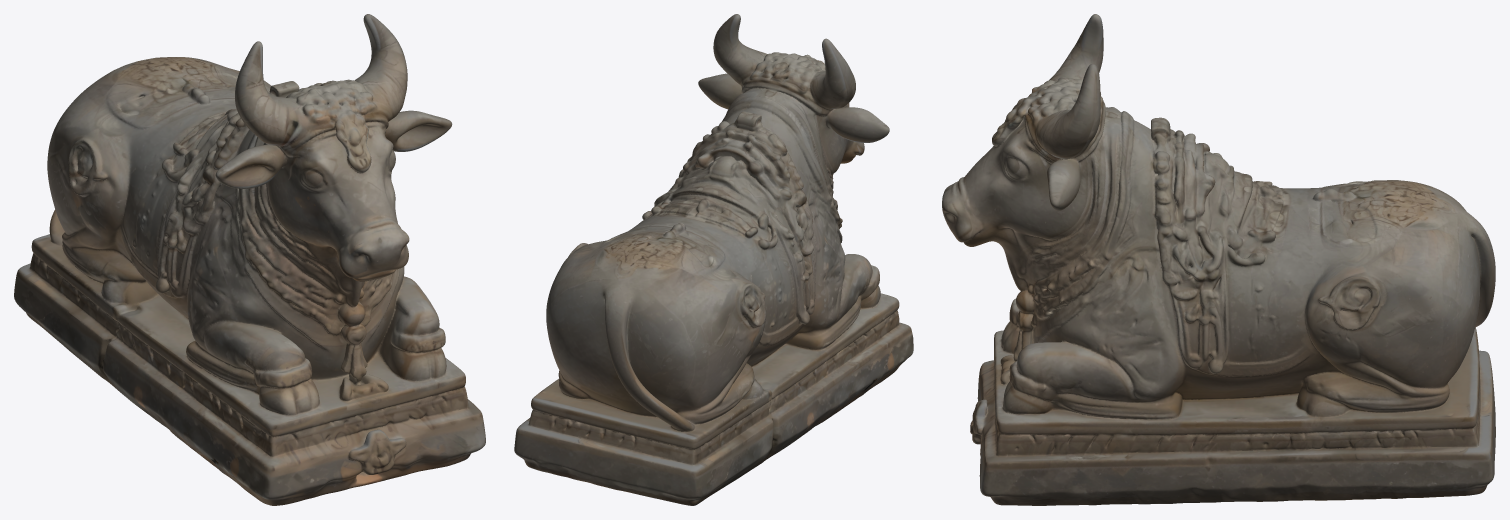
Rendered from Lingraja Bull.glb.
3 renders of one model, left to right at view 1: azimuth 30°, elevation 25°; view 2: azimuth 150°, elevation 25°; view 3: azimuth 270°, elevation 25°, orthographic. The views are drawn at different scales.
Parts seen in each view (by area): view 1: tripo_node_8fa0d984-569e-4645-96cf-ba34e897a25a; view 2: tripo_node_8fa0d984-569e-4645-96cf-ba34e897a25a; view 3: tripo_node_8fa0d984-569e-4645-96cf-ba34e897a25a.
Part boxes in pixels (x1,y1,x2,y2): tripo_node_8fa0d984-569e-4645-96cf-ba34e897a25a: (14,14,485,505); tripo_node_8fa0d984-569e-4645-96cf-ba34e897a25a: (514,14,913,505); tripo_node_8fa0d984-569e-4645-96cf-ba34e897a25a: (942,14,1495,505).
Size of the model in its own units: 0.4837 by 0.8324 by 1.
Materials: 1 (1 with a texture image).
